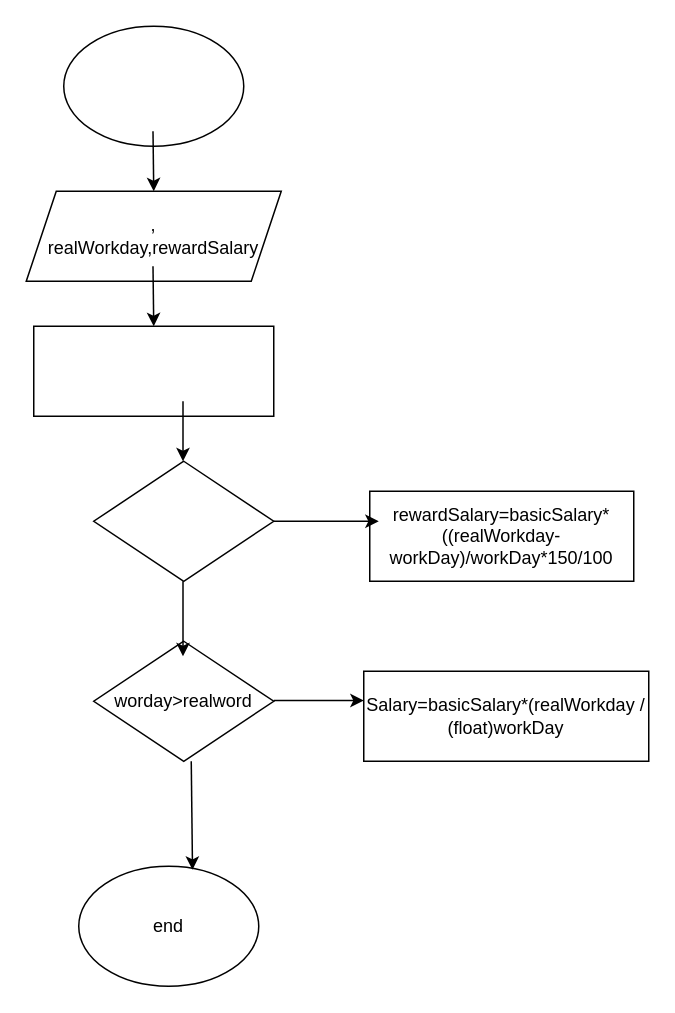
Image size: 675x1013. Some labels were removed from this diagram. The centre of each missing label's shape, as x and y in pixels:
basicSalary=5000000, Salary,workDay=26: [153,370]
realword>worday: [183,520]
start: [153,85]
